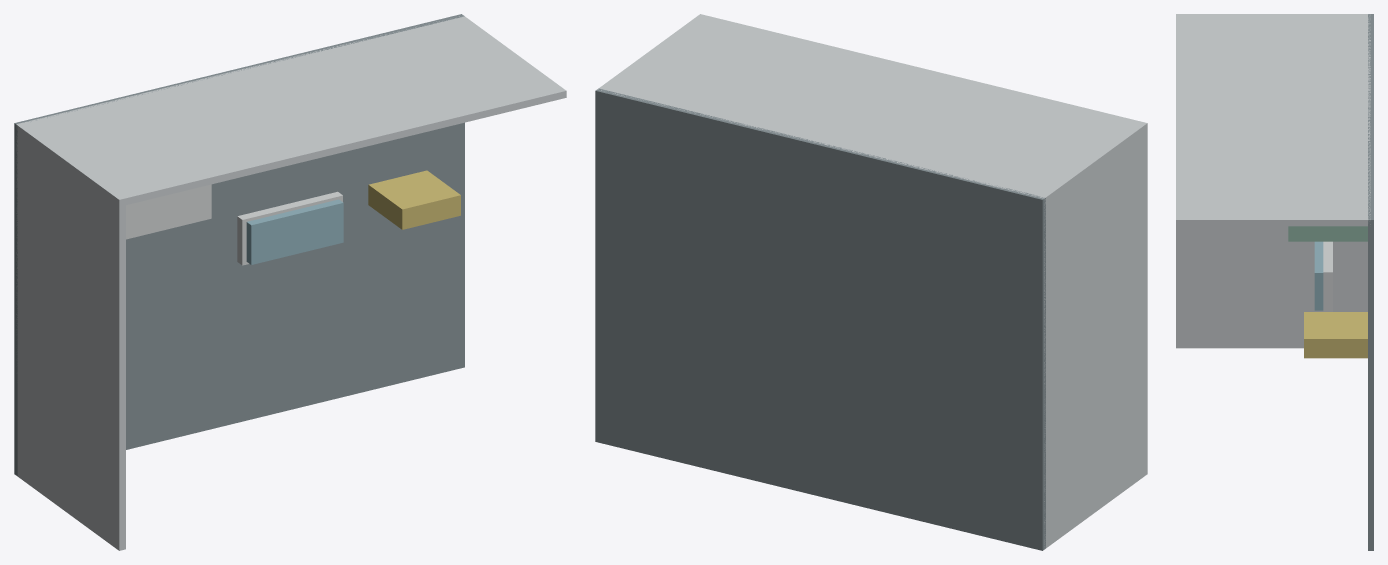
The model's file is pediatrics-room-low.glb.
3 renders of one model, left to right at view 1: azimuth 30°, elevation 25°; view 2: azimuth 150°, elevation 25°; view 3: azimuth 270°, elevation 25°, orthographic. The views are drawn at different scales.
Parts seen in each view (by area): view 1: floor, wall_back, wall_left, pediatric_mattress, play_shelf, exam_table, pediatric_bed; view 2: floor, wall_back, wall_left; view 3: wall_back, wall_left, floor, play_shelf, supplies_cabinet, pediatric_bed, pediatric_mattress.
Part boxes in pixels (x1,y1,x2,y2): floor: (14,14,464,476); wall_back: (16,16,566,206); wall_left: (16,122,125,550); pediatric_mattress: (246,199,343,264); play_shelf: (368,170,460,229); exam_table: (126,184,211,239); pediatric_bed: (237,191,342,265); floor: (595,88,1045,550); wall_back: (598,14,1147,204); wall_left: (1040,122,1147,548); wall_back: (1176,14,1370,226); wall_left: (1176,14,1367,348); floor: (1368,14,1373,550); play_shelf: (1304,312,1367,358); supplies_cabinet: (1288,226,1367,241); pediatric_bed: (1323,241,1332,311); pediatric_mattress: (1314,241,1323,310).
Size of the model in its own units: 8 by 6 by 3.25.
